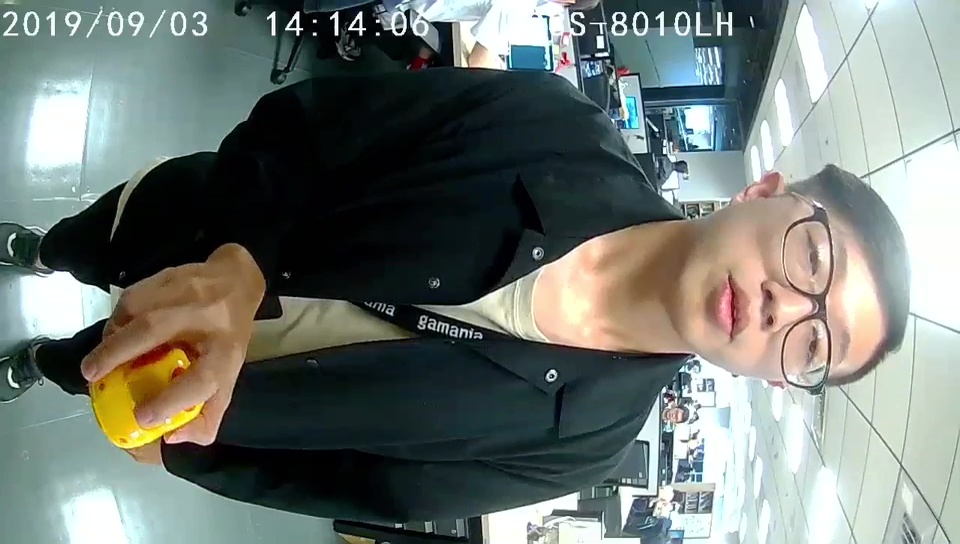car: (87, 343, 205, 450)
